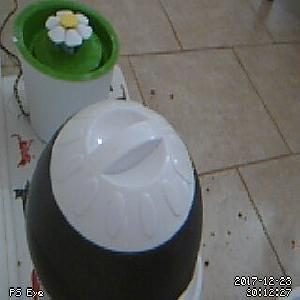fountain: (12, 1, 119, 83)
